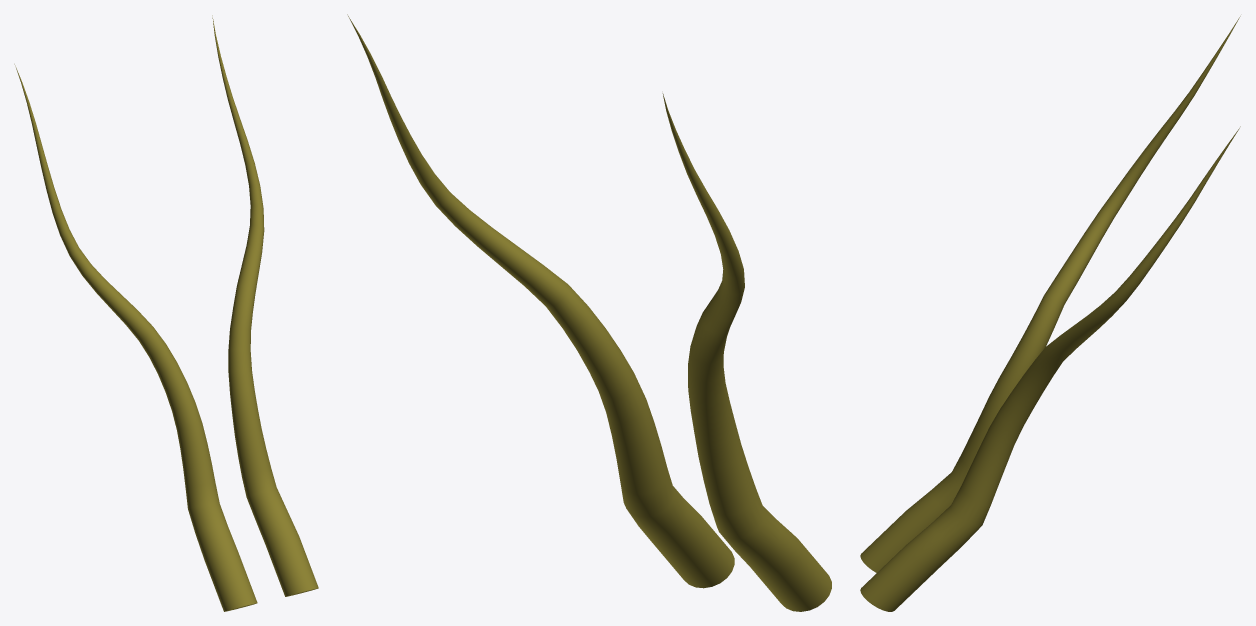
Rendered from Nervio_occipital.obj.
3 renders of one model, left to right at view 1: azimuth 30°, elevation 25°; view 2: azimuth 150°, elevation 25°; view 3: azimuth 270°, elevation 25°, orthographic. The views are drawn at different scales.
Visible parts, largest first — view 1: Nervio_Occipital; view 2: Nervio_Occipital; view 3: Nervio_Occipital.
Part boxes in pixels (box(x1,y1,x2,y2)): Nervio_Occipital: box(14, 15, 318, 611); Nervio_Occipital: box(347, 14, 831, 611); Nervio_Occipital: box(860, 16, 1240, 611).
Bounding box in the file's own units: 0.0909 × 0.1957 × 0.1296.
